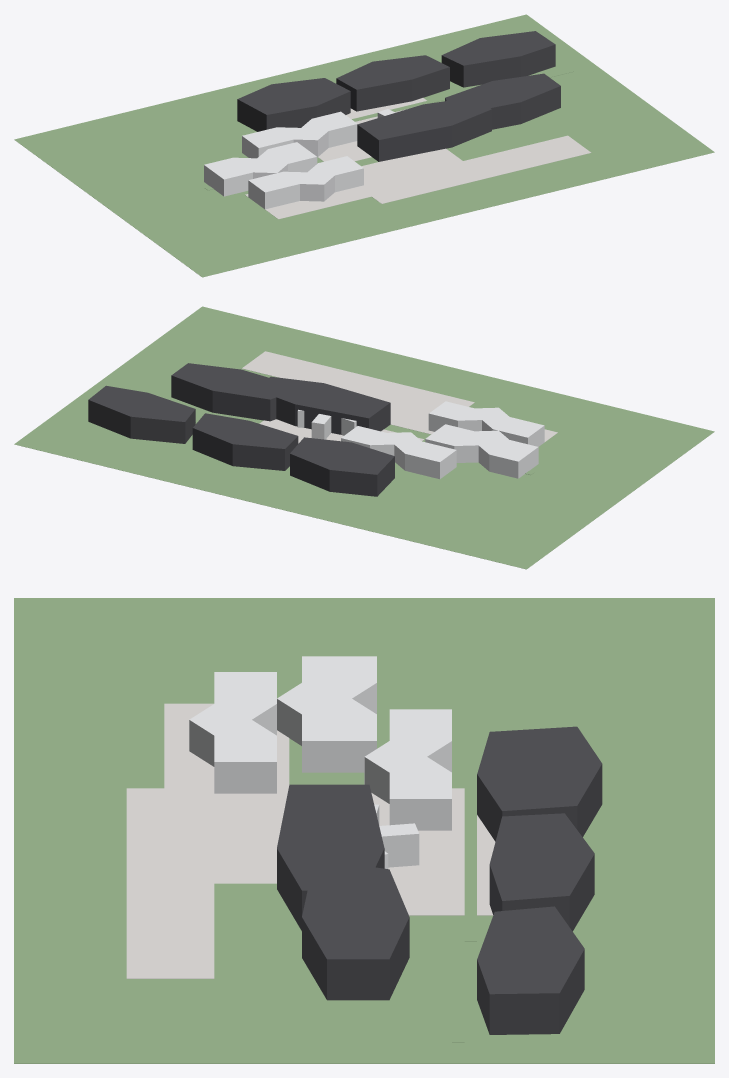
Rendered from campus_urfu.glb.
3 views of the same model, one above another, from view 1: azimuth 30°, elevation 25°; view 2: azimuth 150°, elevation 25°; view 3: azimuth 270°, elevation 25° (orthographic). The views are drawn at different scales.
Visible parts, largest first — view 1: Ground, DarkBlock_5, DarkBlock_3, DarkBlock_1, DarkBlock_2, Plaza_2, DarkBlock_4, Plaza_3, LightBlock_2, LightBlock_1, LightBlock_3, Plaza_1; view 2: Ground, DarkBlock_4, DarkBlock_1, DarkBlock_3, DarkBlock_2, DarkBlock_5, Plaza_3, LightBlock_1, LightBlock_3, LightBlock_2, Plaza_2, Plaza_1 (+1 smaller); view 3: Ground, Plaza_3, DarkBlock_4, DarkBlock_3, DarkBlock_5, DarkBlock_1, Plaza_2, LightBlock_1, DarkBlock_2, LightBlock_2, LightBlock_3, Plaza_1 (+3 smaller).
Part boxes in pixels (x1,y1,x2,y2): Ground: (14,14,714,277); DarkBlock_5: (357,101,491,161); DarkBlock_3: (441,31,555,87); DarkBlock_1: (237,78,350,131); DarkBlock_2: (336,55,449,111); Plaza_2: (245,148,475,219); DarkBlock_4: (445,73,560,129); Plaza_3: (363,135,591,203); LightBlock_2: (248,156,363,209); LightBlock_1: (204,142,317,196); LightBlock_3: (242,111,357,158); Plaza_1: (318,98,426,161); Ground: (14,306,714,569); DarkBlock_4: (171,363,301,421); DarkBlock_1: (290,437,394,496); DarkBlock_3: (88,385,195,443); DarkBlock_2: (192,413,298,470); DarkBlock_5: (254,376,390,434); Plaza_3: (242,351,474,413); LightBlock_1: (425,424,538,478); LightBlock_3: (341,426,456,479); LightBlock_2: (428,401,544,446); Plaza_2: (351,384,557,446); Plaza_1: (259,419,424,443); Ground: (14,598,714,1063); Plaza_3: (126,788,214,978); DarkBlock_4: (302,862,409,1000); DarkBlock_3: (477,906,584,1034); DarkBlock_5: (277,784,384,930); DarkBlock_1: (477,726,602,841); Plaza_2: (164,703,289,883); LightBlock_1: (277,656,376,772); DarkBlock_2: (489,813,594,931); LightBlock_2: (189,672,276,793); LightBlock_3: (364,709,451,830); Plaza_1: (371,788,495,915).
Size of the model in its own units: 440 by 18.1 by 280.
